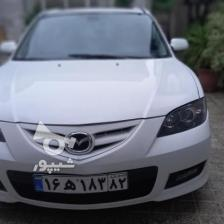plate: (32, 170, 128, 192)
